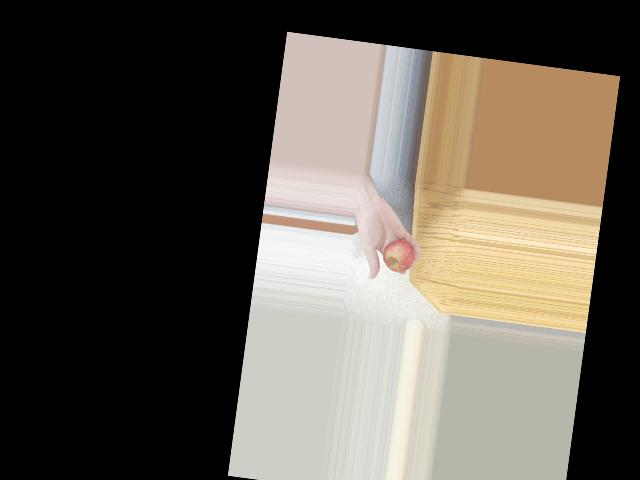apple: (380, 231, 418, 276)
